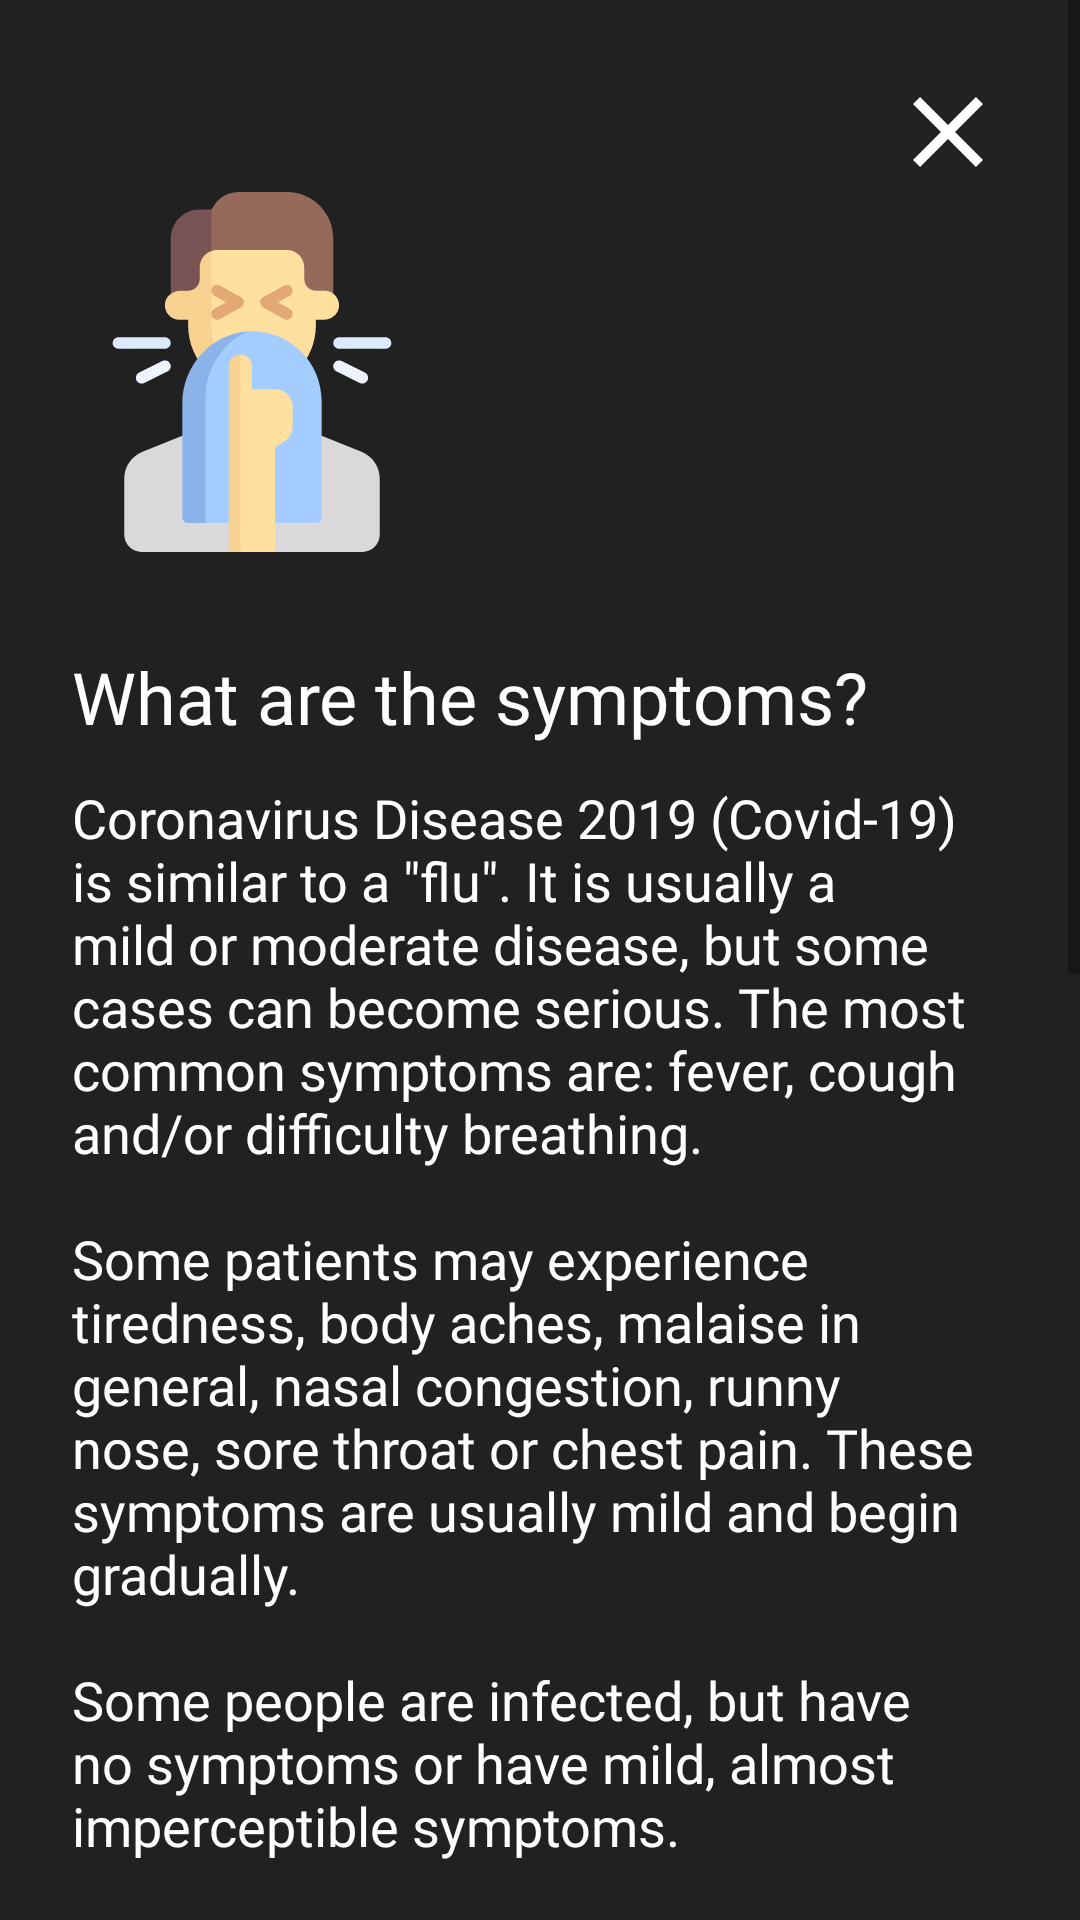

Where to tap for icons on this 1080*1920 app screen, as (x,y):
close: (948,132)
